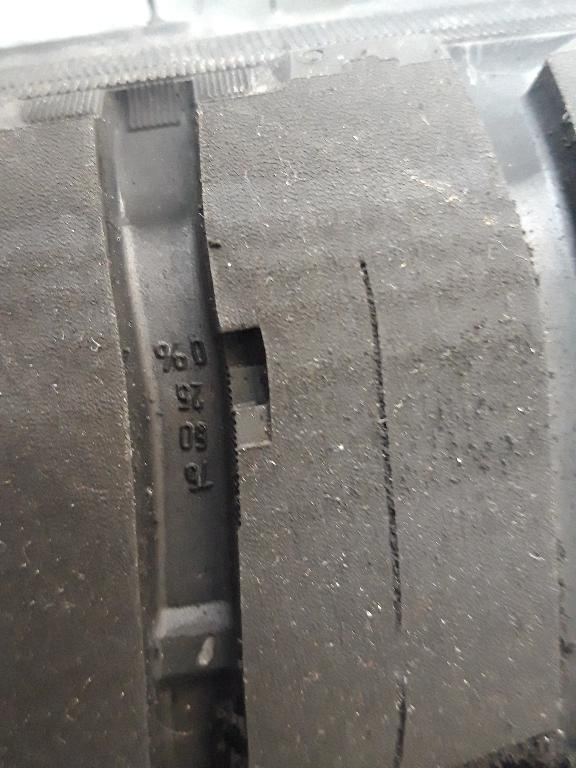temoin:50: (206, 311, 286, 464)
